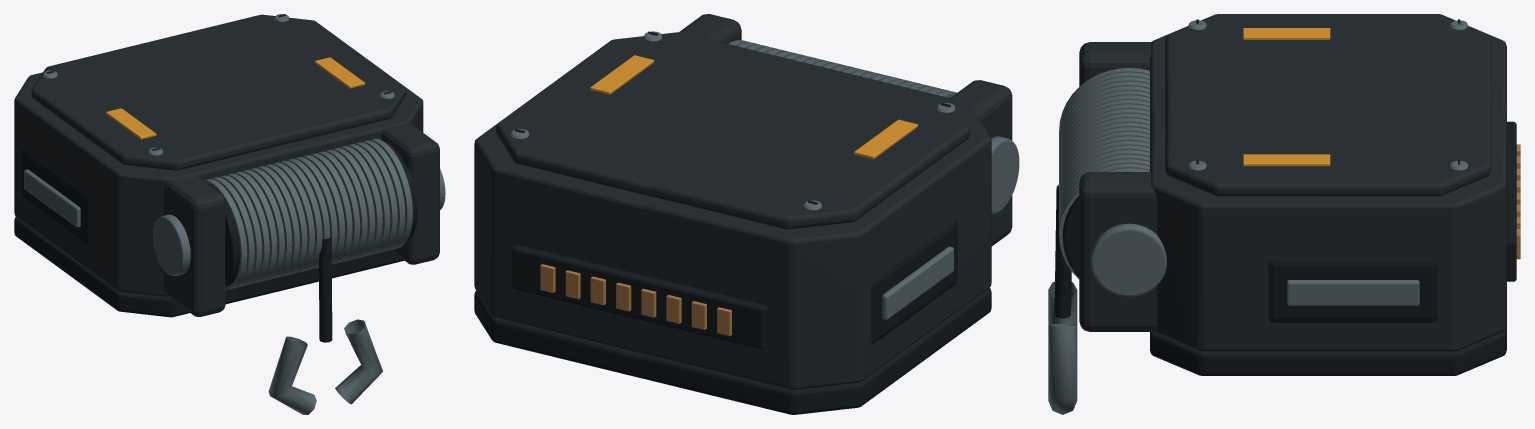
Rendered from salvage_module.glb.
3 renders of one model, left to right at view 1: azimuth 30°, elevation 25°; view 2: azimuth 150°, elevation 25°; view 3: azimuth 270°, elevation 25°, orthographic. The views are drawn at different scales.
Visible parts, largest first — view 1: ServiceLid, ConformalCassetteShell, WinchBearing.001, LowerIsolationSeal, SymmetricRecoveryClamp.001, WinchDrum, RecessedCoupler.001, WinchAxle.001, CableWinding.022, CableWinding.016, CableWinding.014, CableWinding.018 (+11 smaller); view 2: ConformalCassetteShell, ServiceLid, LowerIsolationSeal, ConnectorRecess, WinchBearing.001, RecessedCoupler.001, WitnessMark.001, CouplerRail.001, WinchAxle.001, GoldContact.005, GoldContact.004, GoldContact.006 (+1 smaller); view 3: ServiceLid, ConformalCassetteShell, WinchBearing.001, LowerIsolationSeal, RecessedCoupler.001, WinchAxle.001, CouplerRail.001, SymmetricRecoveryClamp.001, WitnessMark.001, ConnectorRecess, SalvageCable, CableWinding.022 (+12 smaller).
Boxes of the visible parts, x1,y1,x2,y2 form: ServiceLid: (31,14,406,170); ConformalCassetteShell: (14,72,423,297); WinchBearing.001: (164,123,439,316); LowerIsolationSeal: (14,217,404,317); SymmetricRecoveryClamp.001: (268,319,382,414); WinchDrum: (207,140,417,286); RecessedCoupler.001: (21,149,89,246); WinchAxle.001: (153,169,445,275); CableWinding.022: (205,138,412,290); CableWinding.016: (250,149,367,279); CableWinding.014: (265,153,352,275); CableWinding.018: (235,146,382,282); ConformalCassetteShell: (474,105,991,389); ServiceLid: (496,32,969,229); LowerIsolationSeal: (474,287,991,414); ConnectorRecess: (512,245,767,349); WinchBearing.001: (679,14,1012,246); RecessedCoupler.001: (871,220,957,344); WitnessMark.001: (590,55,917,159); CouplerRail.001: (882,246,953,319); WinchAxle.001: (991,136,1019,214); GoldContact.005: (590,276,681,323); GoldContact.004: (616,282,656,317); GoldContact.006: (565,270,706,329); ServiceLid: (1165,14,1491,196); ConformalCassetteShell: (1150,34,1506,351); WinchBearing.001: (1079,42,1157,331); LowerIsolationSeal: (1150,326,1506,375); RecessedCoupler.001: (1268,259,1437,322); WinchAxle.001: (1091,223,1166,296); CouplerRail.001: (1287,280,1419,305); SymmetricRecoveryClamp.001: (1048,281,1077,414); WitnessMark.001: (1243,28,1330,166); ConnectorRecess: (1507,121,1516,281); SalvageCable: (1054,185,1071,318); CableWinding.022: (1059,68,1149,279).
Size of the model in its own units: 1.1 by 0.8227 by 1.14.
